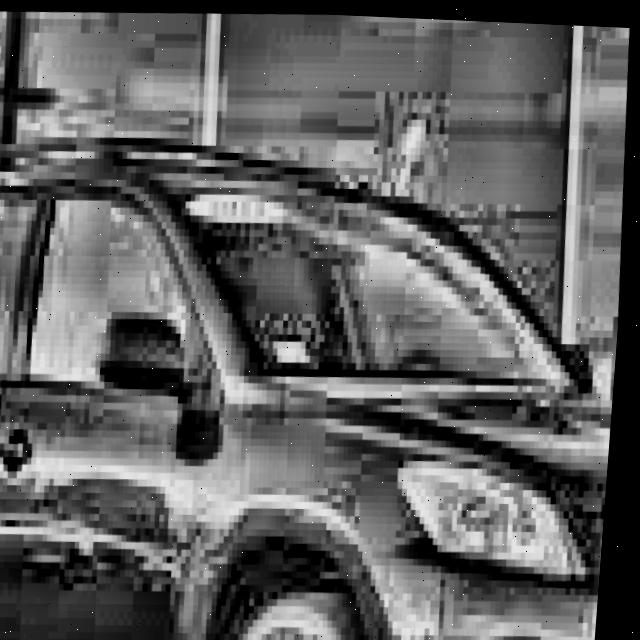light_vehicle: (0, 114, 633, 640)
